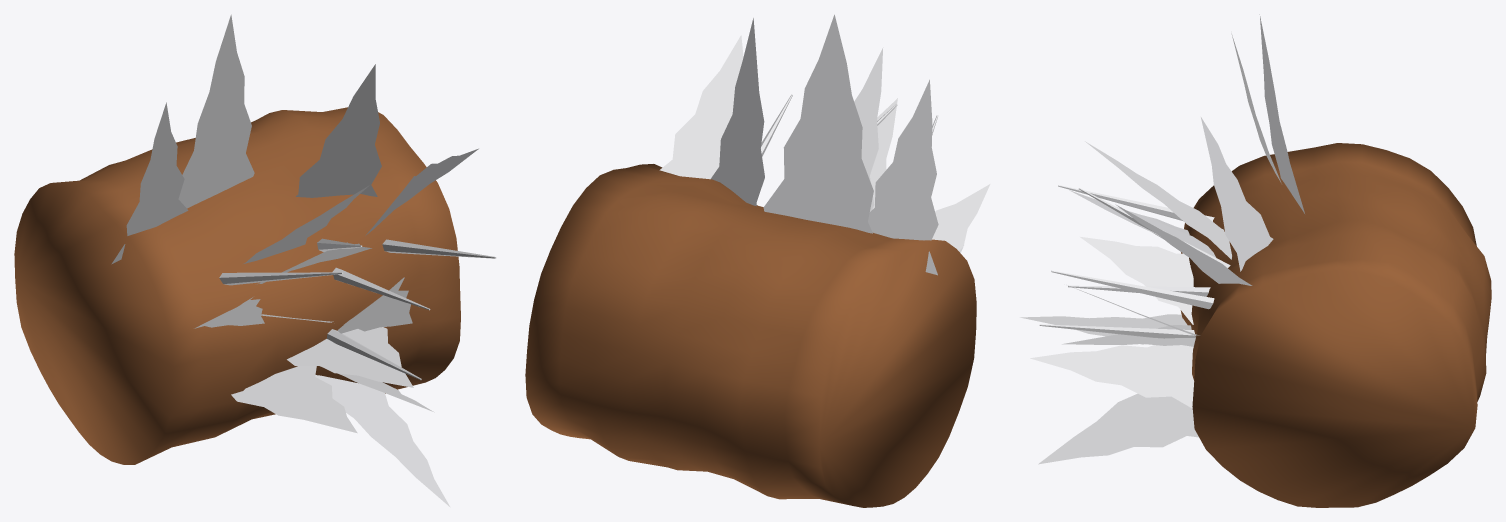
Rendered from TrashScrap.fbx.
The picture shows the model from 3 angles, left to right: view 1: azimuth 30°, elevation 25°; view 2: azimuth 150°, elevation 25°; view 3: azimuth 270°, elevation 25°; orthographic projection. The views are drawn at different scales.
Visible parts, largest first — view 1: TrashScrap, TrashScrap_Blades; view 2: TrashScrap, TrashScrap_Blades; view 3: TrashScrap, TrashScrap_Blades.
Part boxes in pixels (x1,y1,x2,y2): TrashScrap: (14, 107, 460, 464); TrashScrap_Blades: (111, 14, 496, 507); TrashScrap: (525, 164, 976, 507); TrashScrap_Blades: (659, 14, 990, 275); TrashScrap: (1180, 143, 1491, 507); TrashScrap_Blades: (1020, 14, 1304, 464).
Bounding box in the file's own units: 0.8104 × 1.11 × 1.16.
